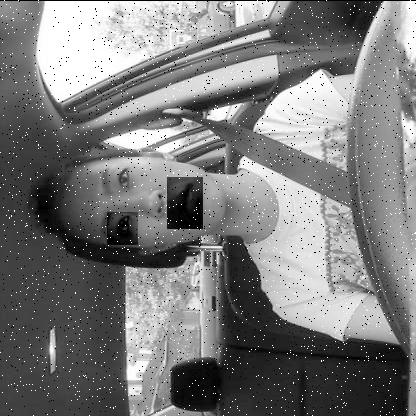seatbelt: (27, 132, 352, 274)
